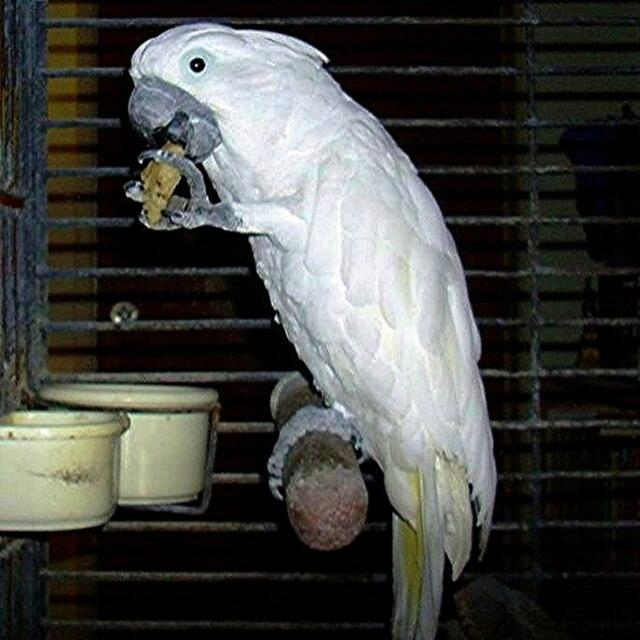Kakatua Putih: (99, 4, 519, 640)
